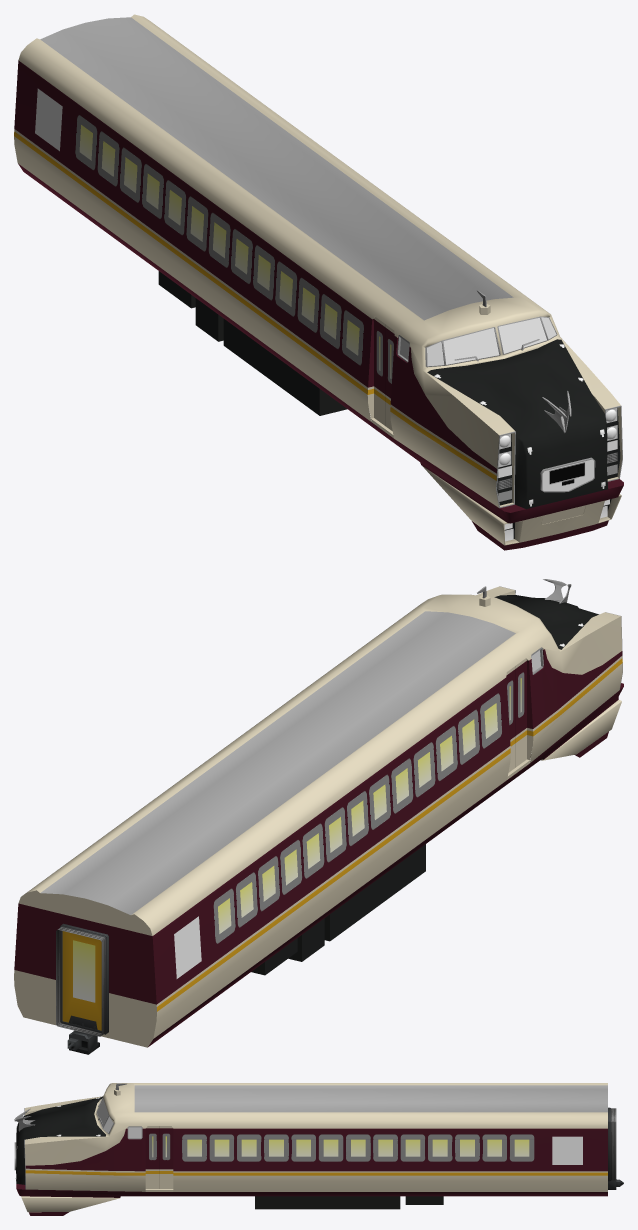
Rendered from DRC_00.glb.
3 views of the same model, one above another, from view 1: azimuth 30°, elevation 25°; view 2: azimuth 150°, elevation 25°; view 3: azimuth 270°, elevation 25° (orthographic). The views are drawn at different scales.
Parts seen in each view (by area): view 1: obj7; view 2: obj7; view 3: obj7.
Boxes of the visible parts, x1=… form: obj7: x1=14, y1=14, x2=623, y2=550; obj7: x1=14, y1=579, x2=623, y2=1054; obj7: x1=14, y1=1083, x2=623, y2=1215.
Bounding box in the file's own units: 7.32 × 9.31 × 44.04.
25 materials, 24 textured.
